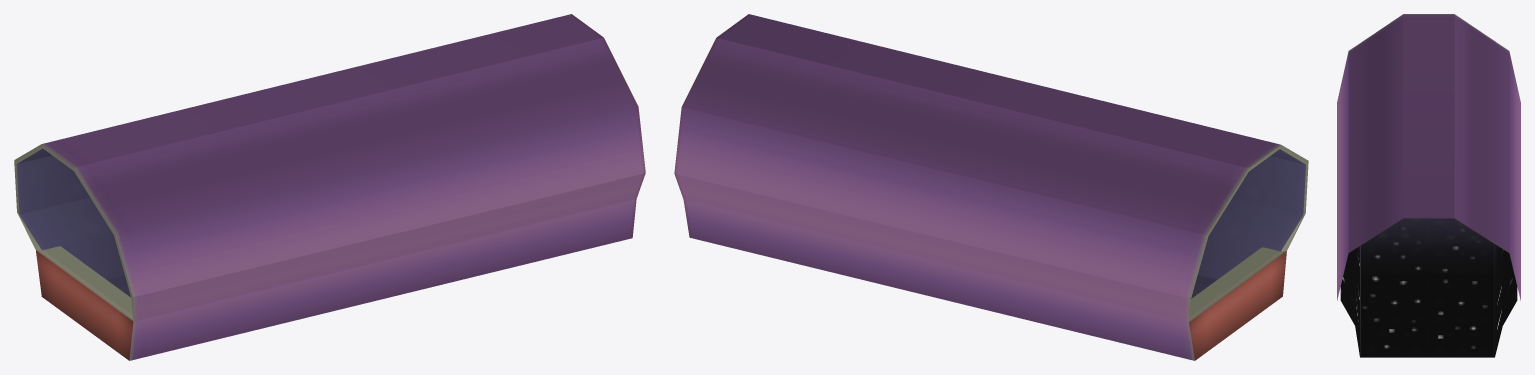
The model's file is booth06.glb.
3 renders of one model, left to right at view 1: azimuth 30°, elevation 25°; view 2: azimuth 150°, elevation 25°; view 3: azimuth 270°, elevation 25°, orthographic. The views are drawn at different scales.
Parts seen in each view (by area): view 1: booth06; view 2: booth06; view 3: booth06.
Boxes of the visible parts, x1=… form: booth06: x1=14, y1=14, x2=645, y2=360; booth06: x1=674, y1=14, x2=1308, y2=360; booth06: x1=1337, y1=14, x2=1520, y2=357.
Bounding box in the file's own units: 1985 × 643 × 752.
2 materials, 2 textured.
